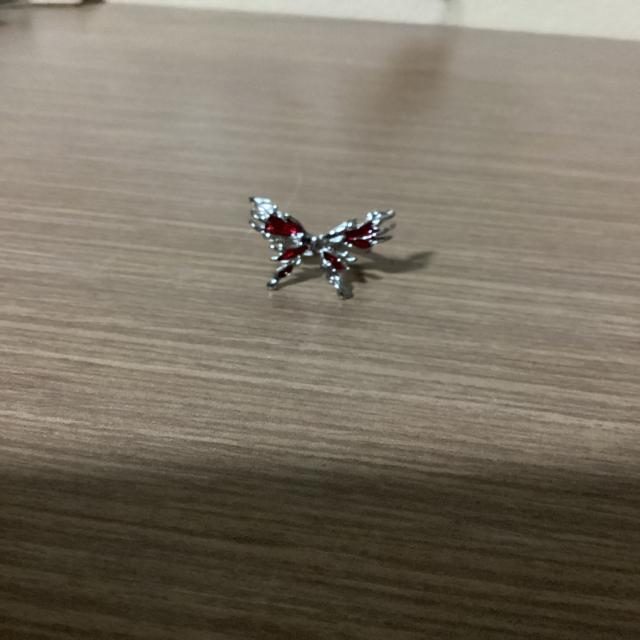Ring: (244, 192, 397, 302)
